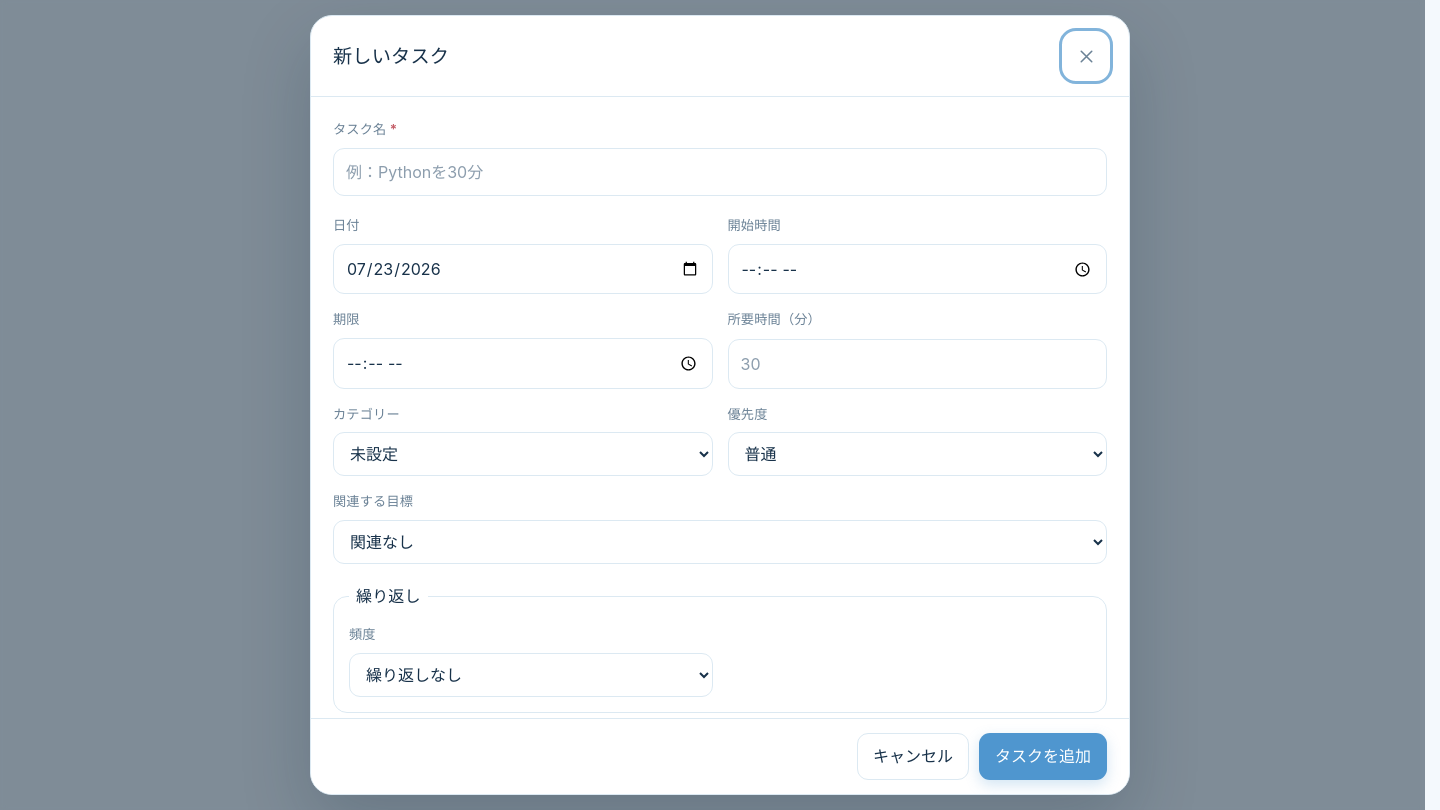
今日画面の主要操作 › 未保存のタスク入力を閉じる前に確認する
This screenshot has width=1440, height=810.
Type "下書き" into the field with placeholder "例：Pythonを30分". click: [720, 172]
box: [333,148,1107,196]
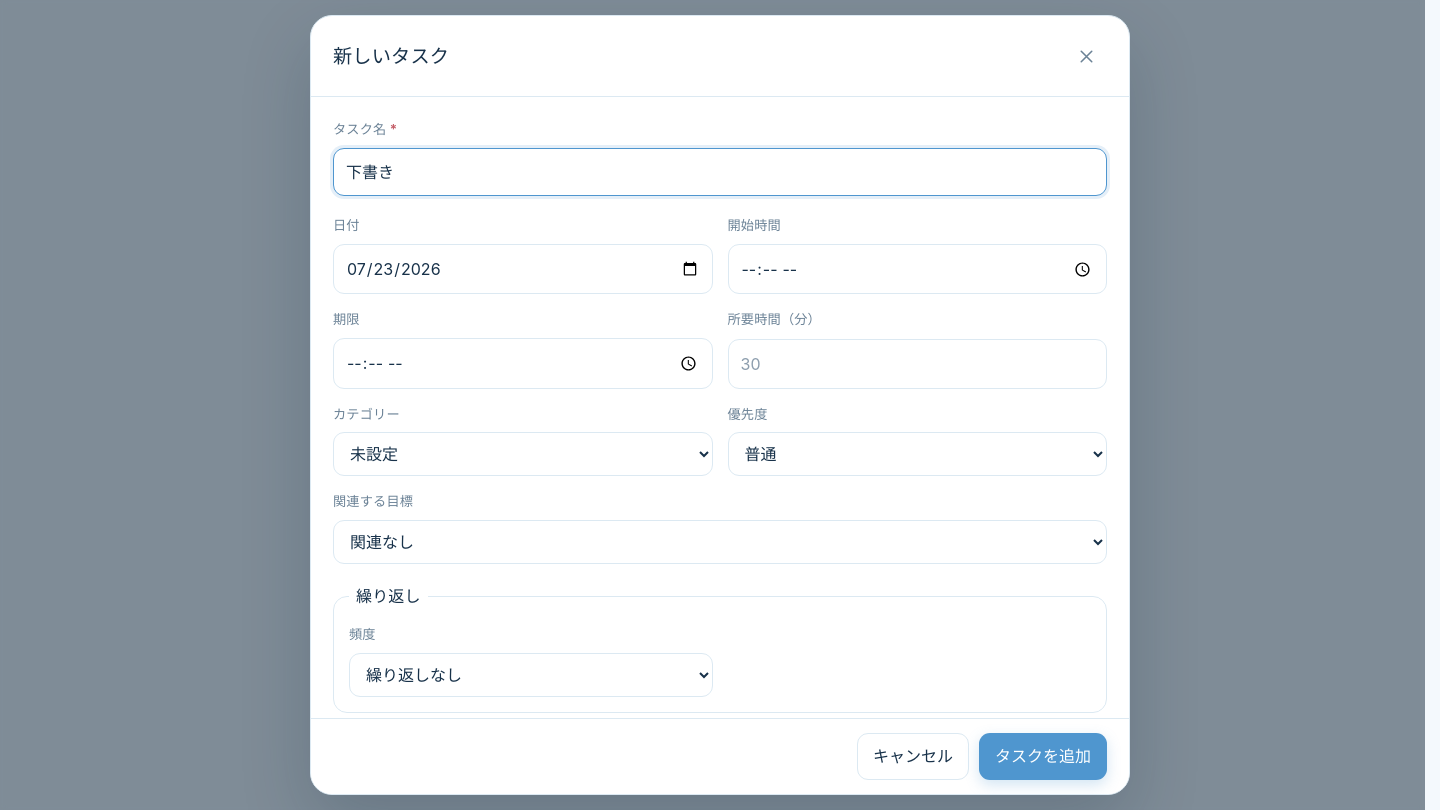
Click the button "キャンセル". click: [913, 757]
box: [857,734,969,780]
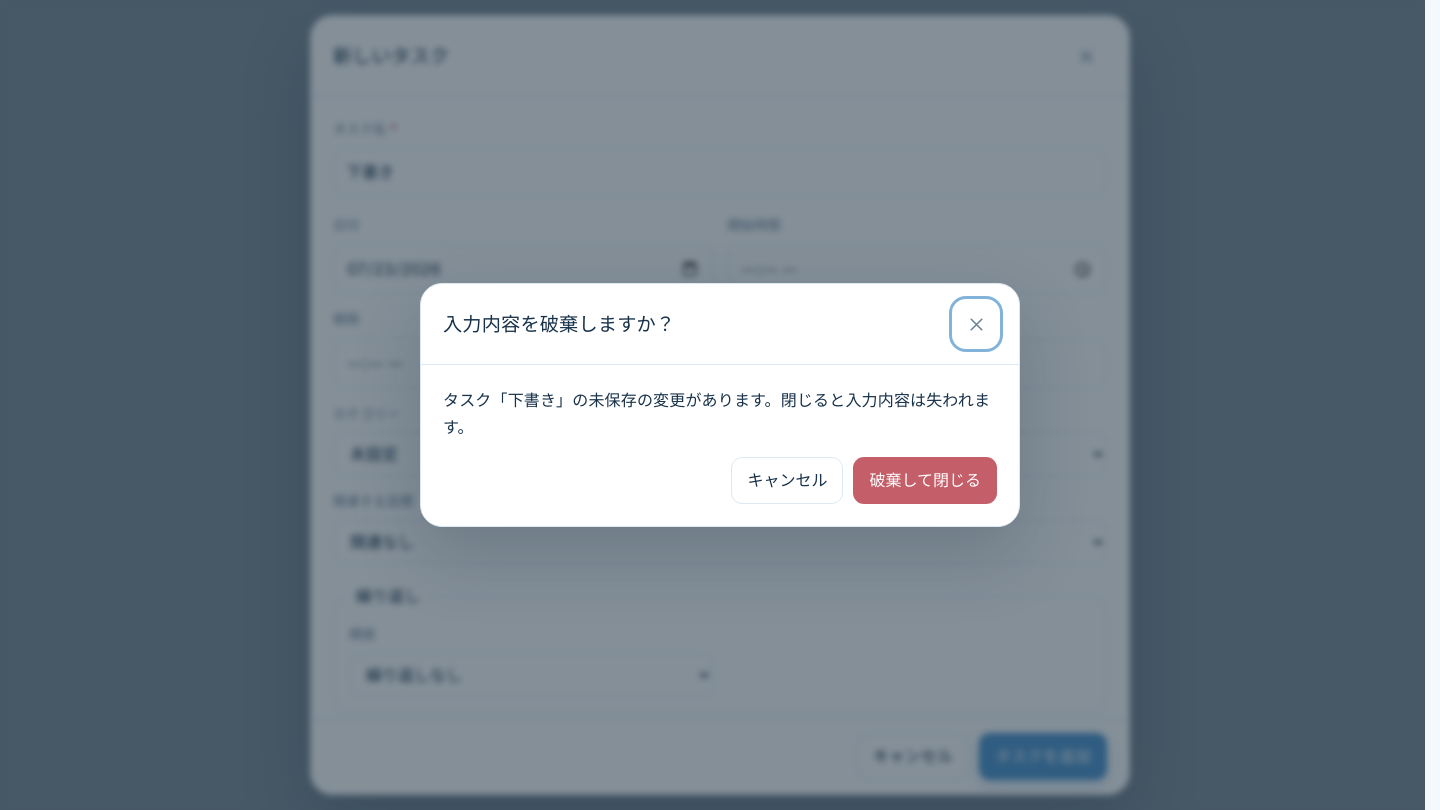
expect the heading "入力内容を破棄しますか？" is shown: met, box [443,311,675,338]
expect the text "タスク「下書き」の未保存の変更があります。閉じると入力内容は失われます。" is shown: met, box [443,387,997,442]
